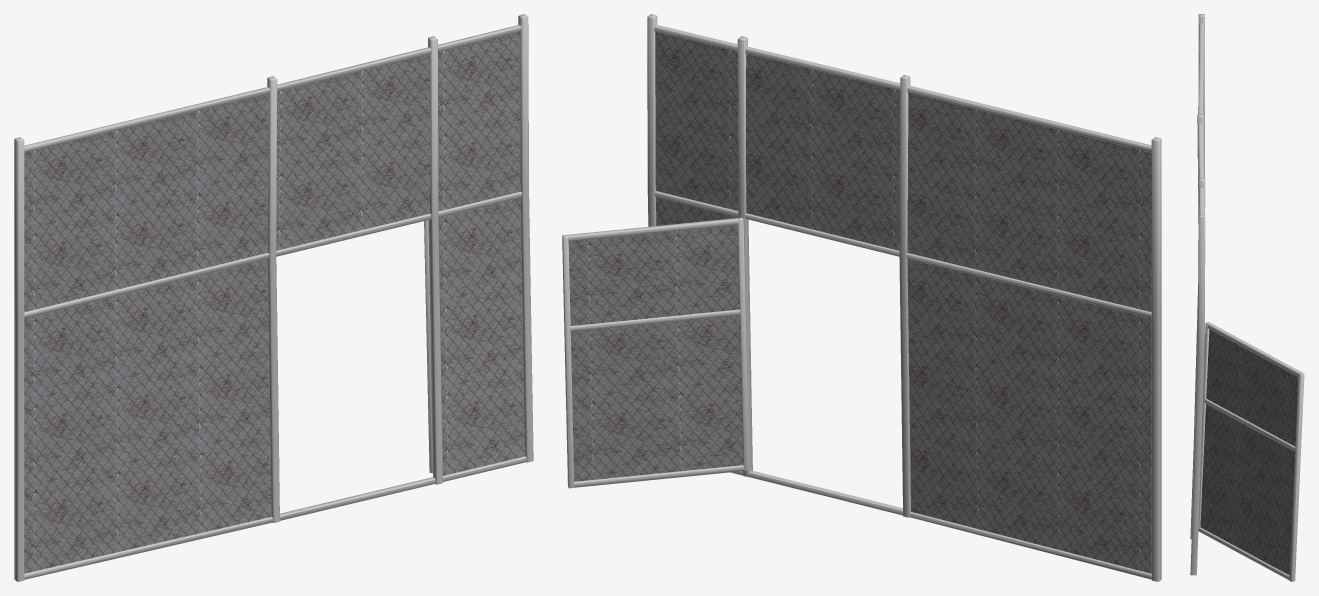
The model's file is ChainFence01_4.FBX.
The picture shows the model from 3 angles, left to right: view 1: azimuth 30°, elevation 25°; view 2: azimuth 150°, elevation 25°; view 3: azimuth 270°, elevation 25°; orthographic projection. The views are drawn at different scales.
Visible parts, largest first — view 1: ChainFence01_4; view 2: ChainFence01_4; view 3: ChainFence01_4.
Boxes of the visible parts, x1=… form: ChainFence01_4: x1=14, y1=14, x2=533, y2=581; ChainFence01_4: x1=562, y1=14, x2=1161, y2=581; ChainFence01_4: x1=1190, y1=14, x2=1304, y2=581.
Size of the model in its own units: 517 by 406 by 117.
